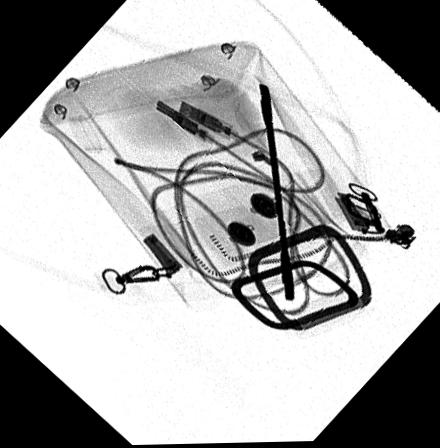Wrench: (255, 84, 296, 304)
